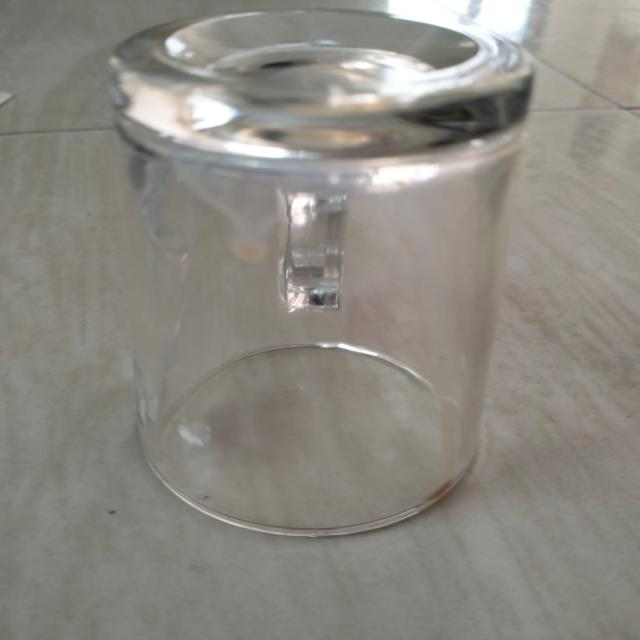glass-VX4N: (105, 1, 552, 549)
